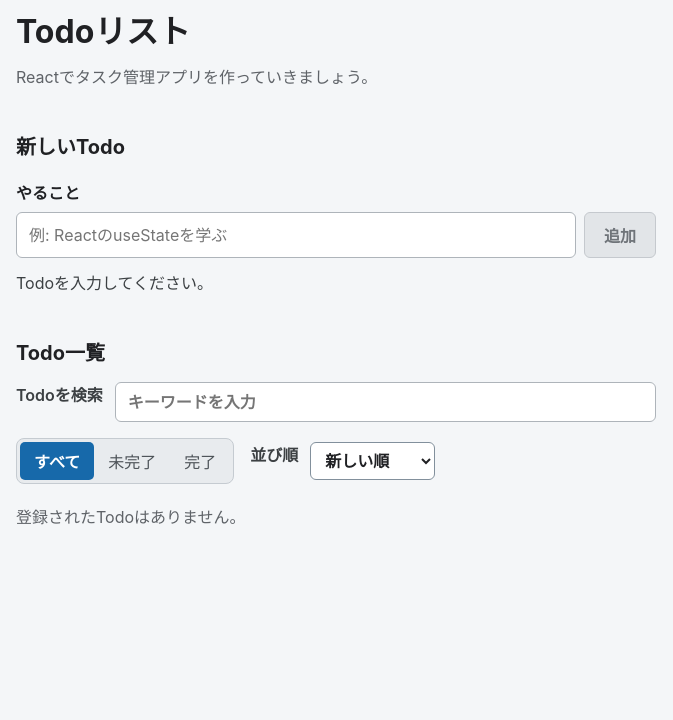
Test: Home › 成功メッセージを閉じられる
The width and height of the screenshot is (673, 720).
Type "Reactを復習する" into the field labelled "やること".
click(296, 235); type("Reactを復習する")  # box [16,212,576,258]
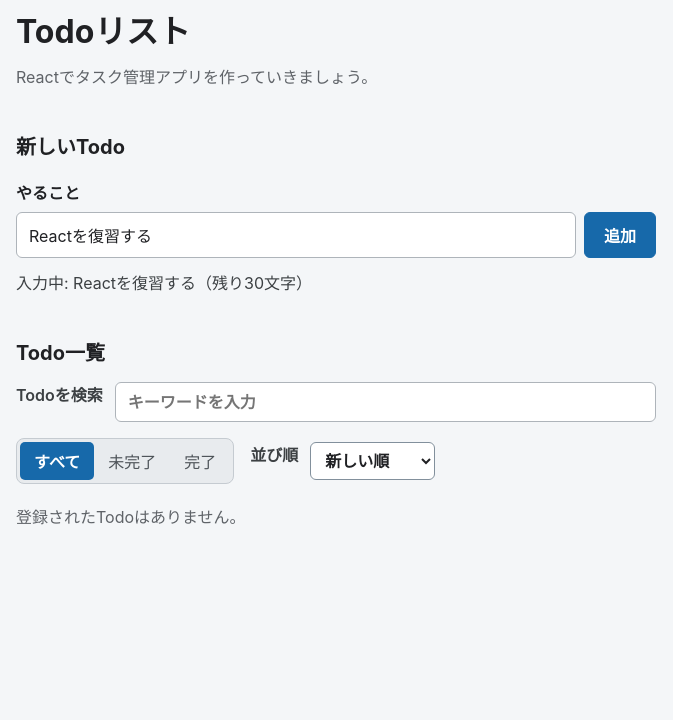
Click the button "追加".
click(620, 235)  # box [584,212,656,258]
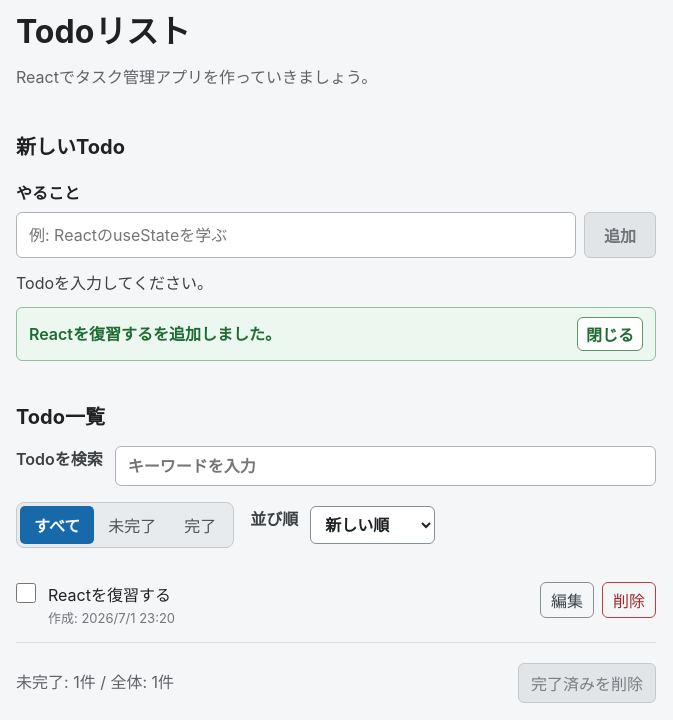
Click the button with aria-label "成功メッセージを閉じる".
click(610, 334)  # box [577,317,643,351]
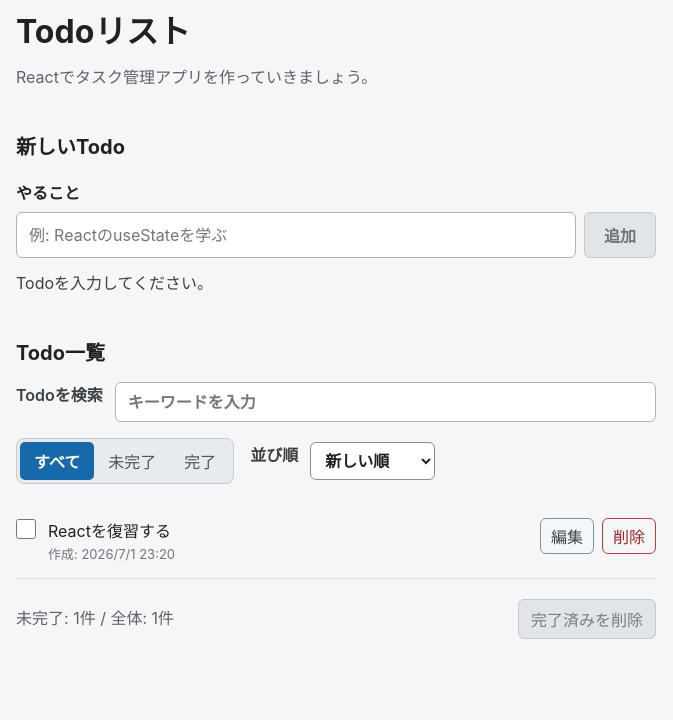
Expected: the message "Reactを復習するを追加しました。 閉じる" is gone
